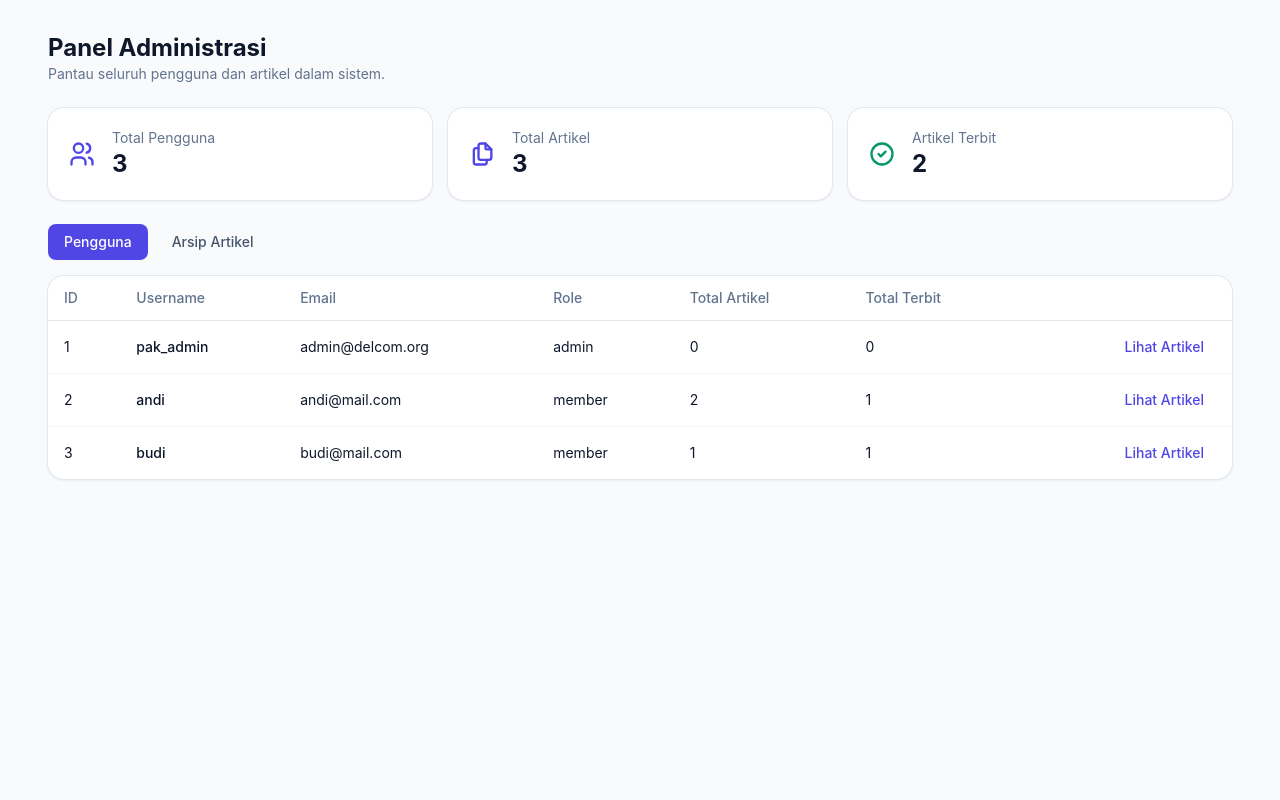
Test case: AdminDashboard artikel per pengguna › menampilkan error jika artikel pengguna gagal dimuat
Expected: the text "pak_admin" is shown, 120,320 -> 284,374
What coordinates should you click on to do the following:
click the button with aria-label "Lihat artikel budi"
I would click on:
 (1164, 453)
Its box is 1112,439 -> 1216,467.
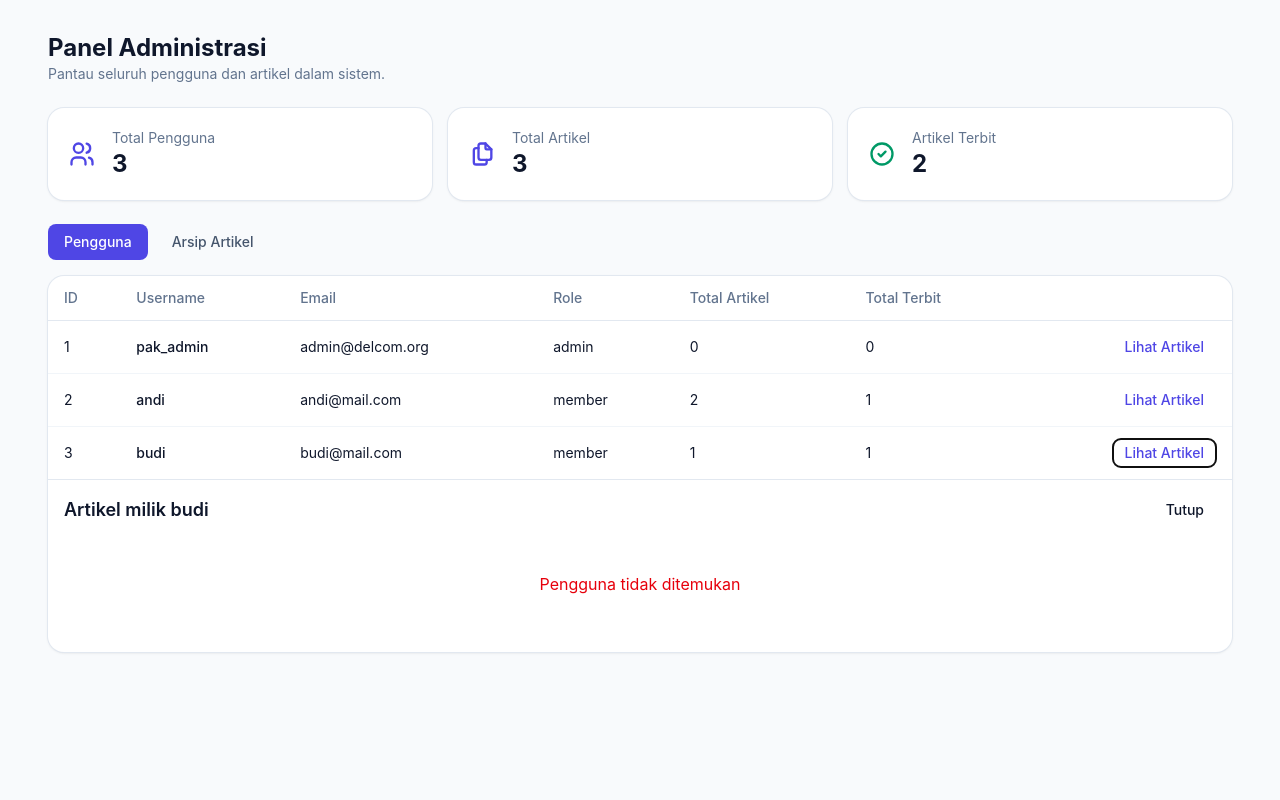
Result: the text "Pengguna tidak ditemukan" is shown at 540,574 -> 740,594
